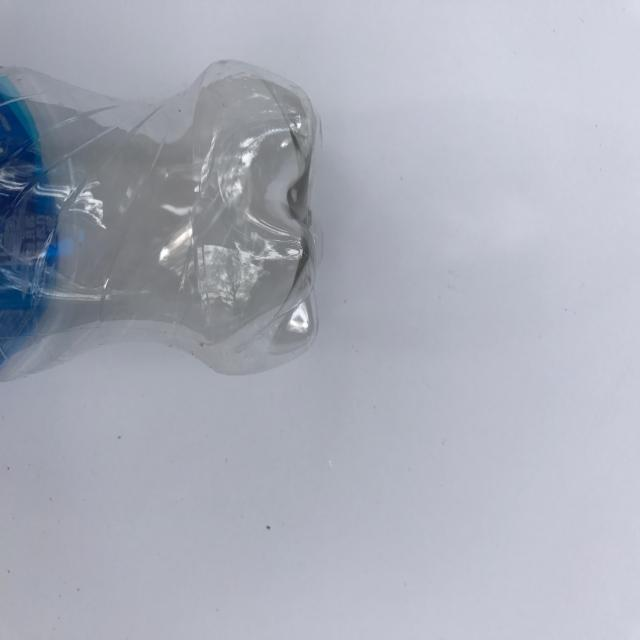plastic: (1, 58, 322, 380)
